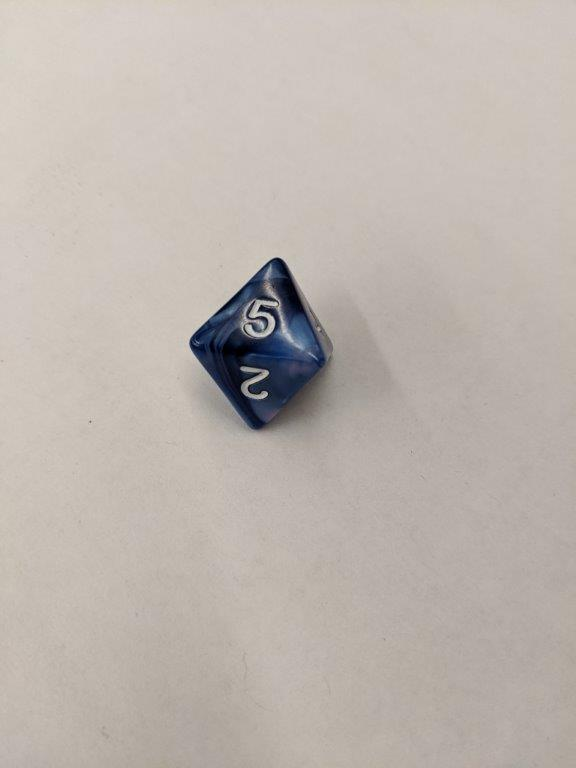d8-5: (190, 252, 335, 431)
